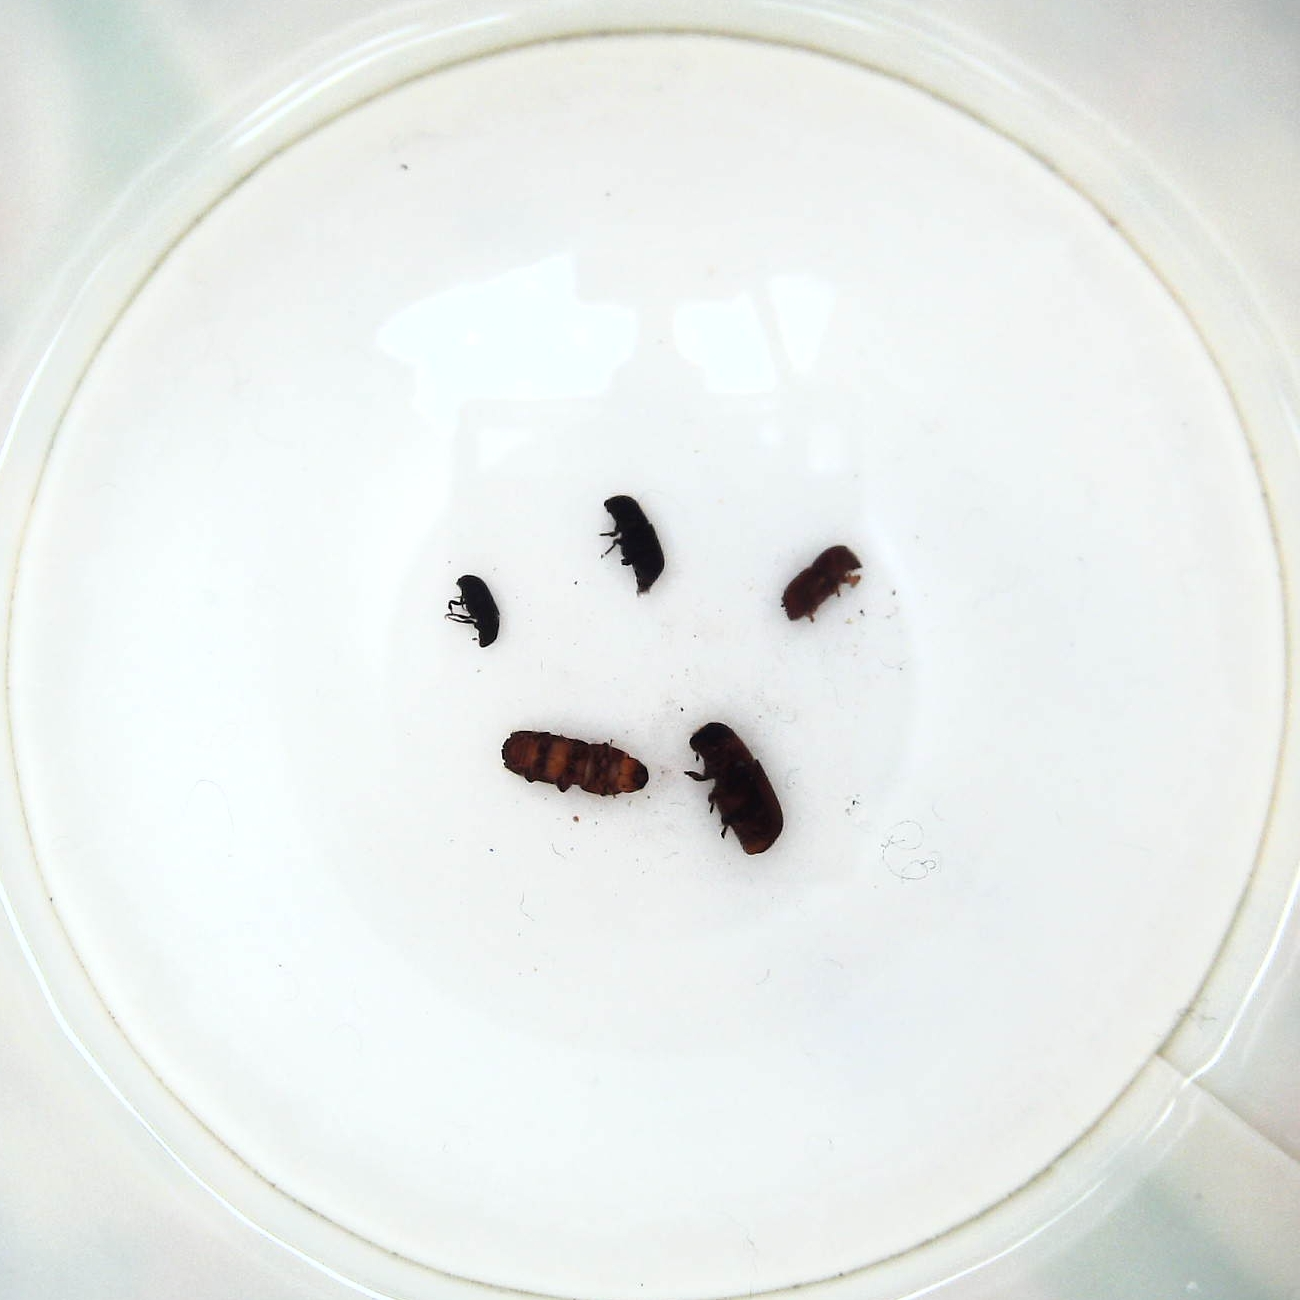Boerner: (493, 725, 657, 804)
Leconte: (681, 718, 786, 860)
armandi: (596, 489, 669, 596)
coleoptera: (445, 565, 501, 652)
linnaeus: (779, 545, 874, 630)
